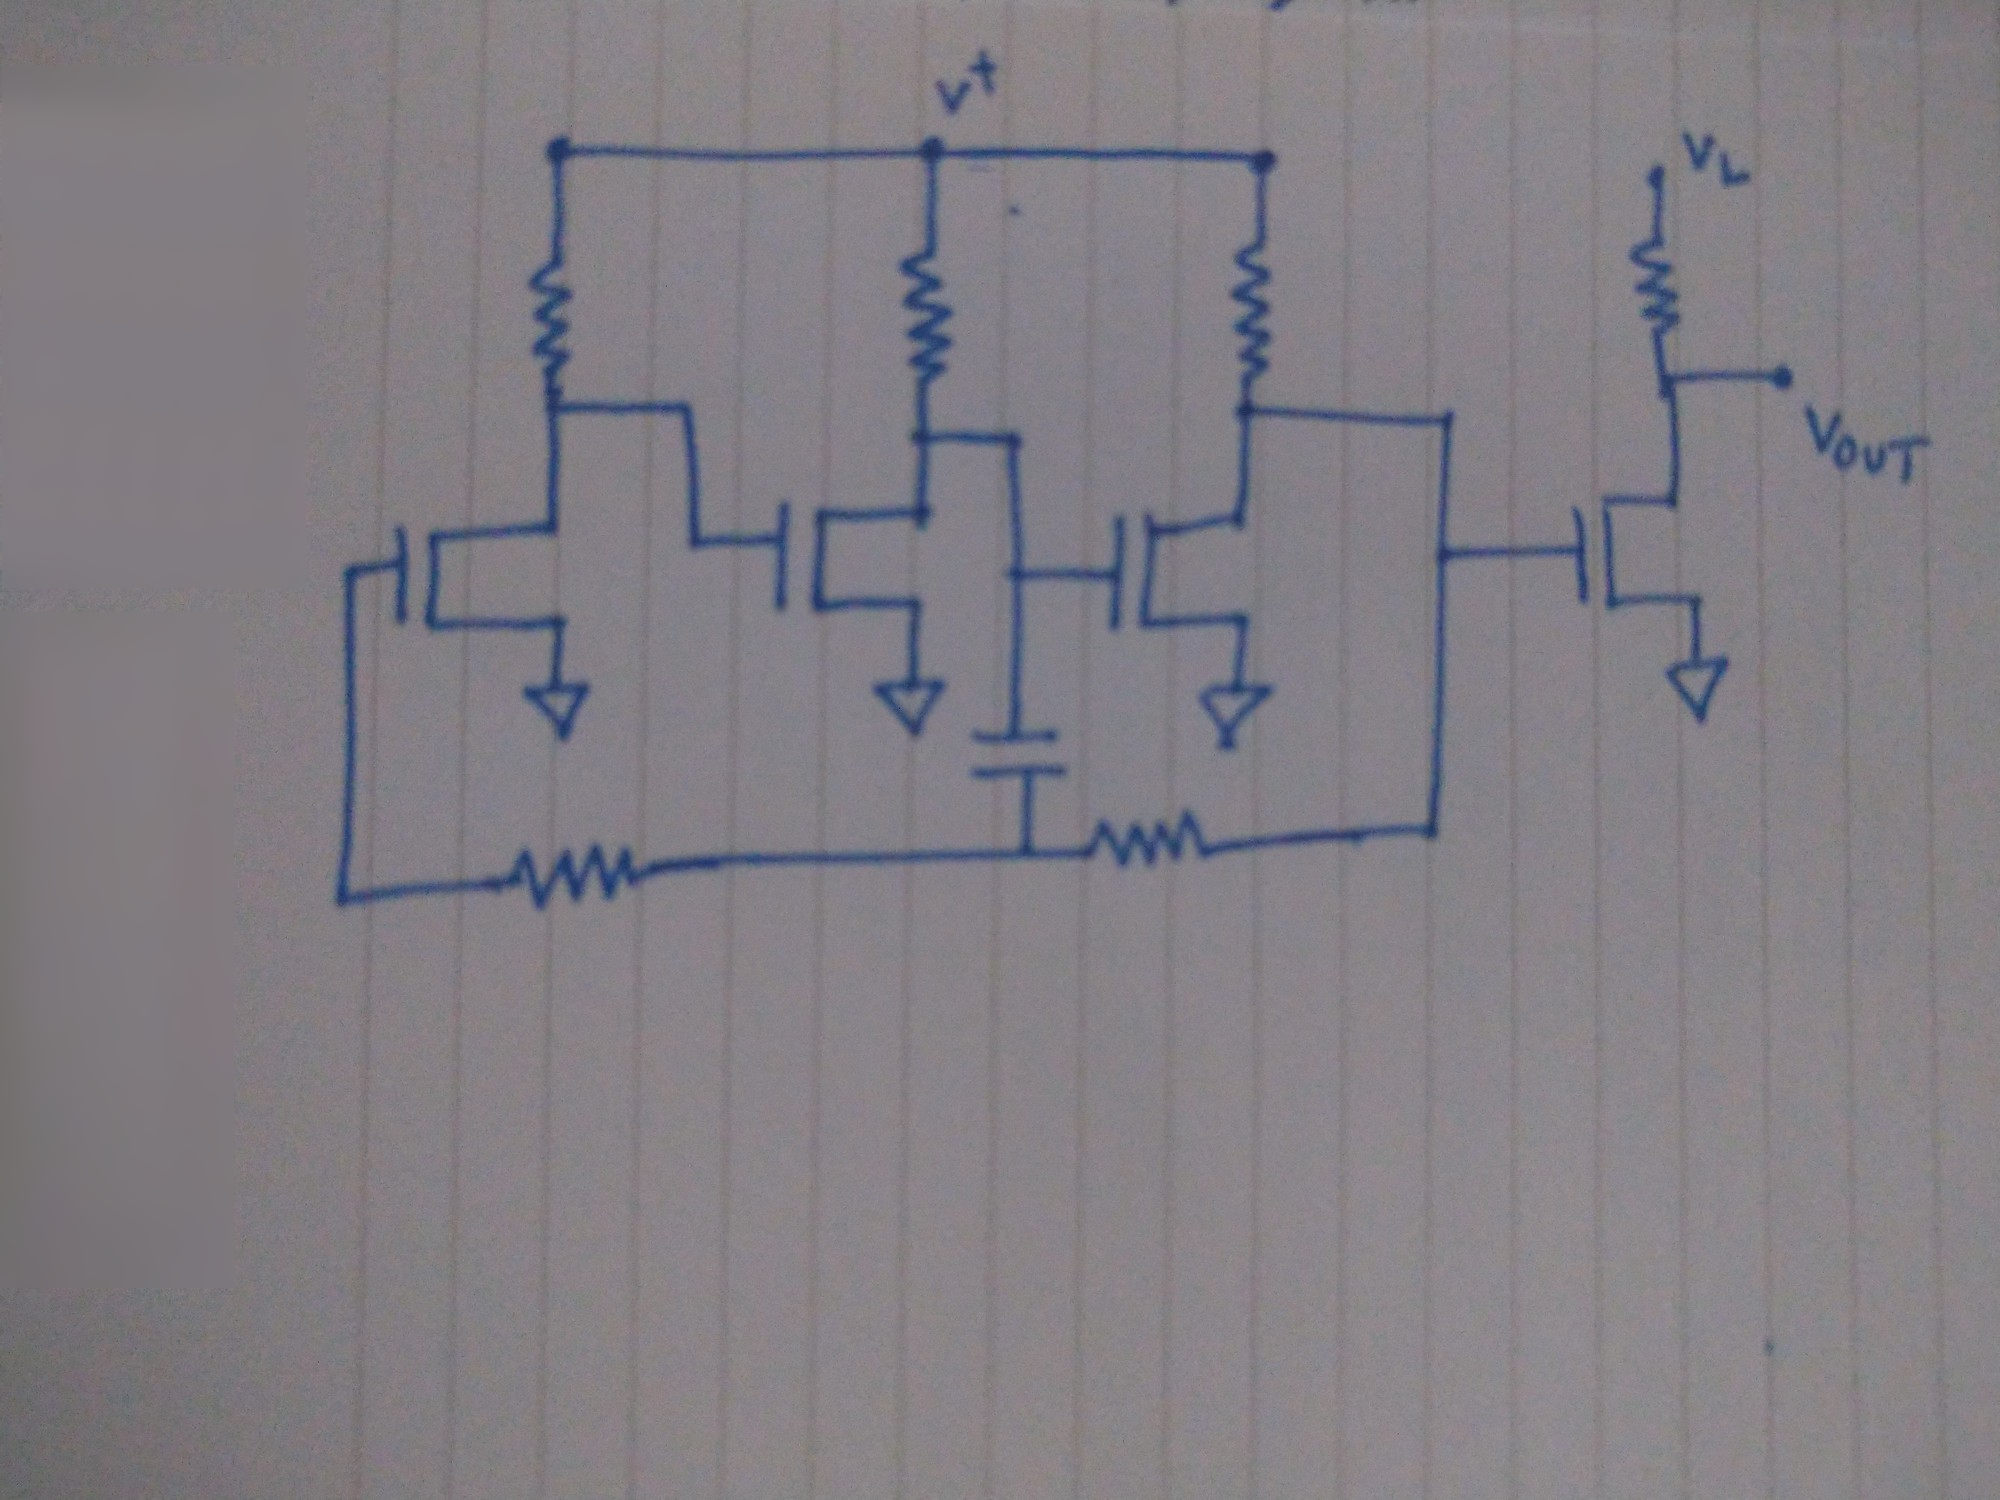capacitor.unpolarized: (961, 726, 1074, 786)
gnd: (1658, 654, 1729, 725)
junction: (535, 391, 576, 429), (1249, 140, 1288, 178), (995, 421, 1031, 460), (680, 523, 717, 559), (1657, 367, 1691, 402), (913, 134, 946, 165), (323, 882, 354, 915), (1431, 542, 1461, 574), (1005, 559, 1035, 589), (543, 137, 573, 165), (1420, 818, 1449, 848), (1431, 408, 1461, 436), (910, 425, 942, 451), (334, 559, 361, 585), (1235, 395, 1258, 422), (1013, 838, 1035, 863), (669, 395, 691, 416)
resistor: (496, 835, 646, 914), (1085, 808, 1216, 879), (894, 244, 961, 383), (520, 247, 587, 380), (1227, 236, 1283, 386), (1627, 228, 1687, 343)
terminal: (520, 678, 598, 747), (1194, 681, 1274, 748), (871, 671, 943, 733), (1772, 362, 1808, 395), (1643, 161, 1676, 192)
text: (1795, 403, 1920, 488), (924, 46, 998, 117), (1682, 128, 1757, 184)
transistor: (386, 511, 575, 641), (765, 488, 948, 621), (1107, 493, 1269, 638), (1565, 474, 1721, 618)
